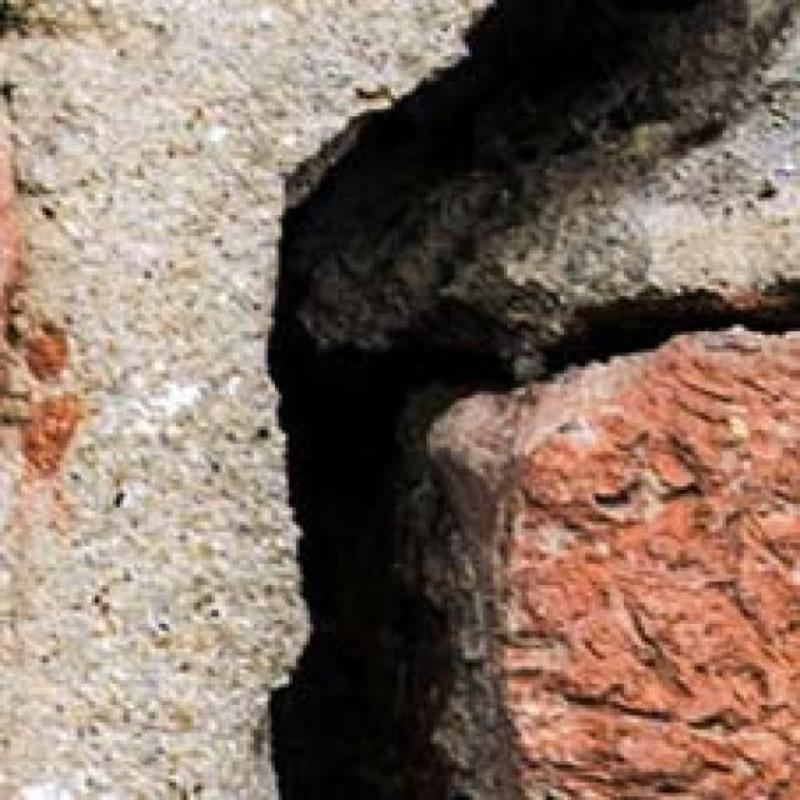pothole: (270, 0, 800, 799)
